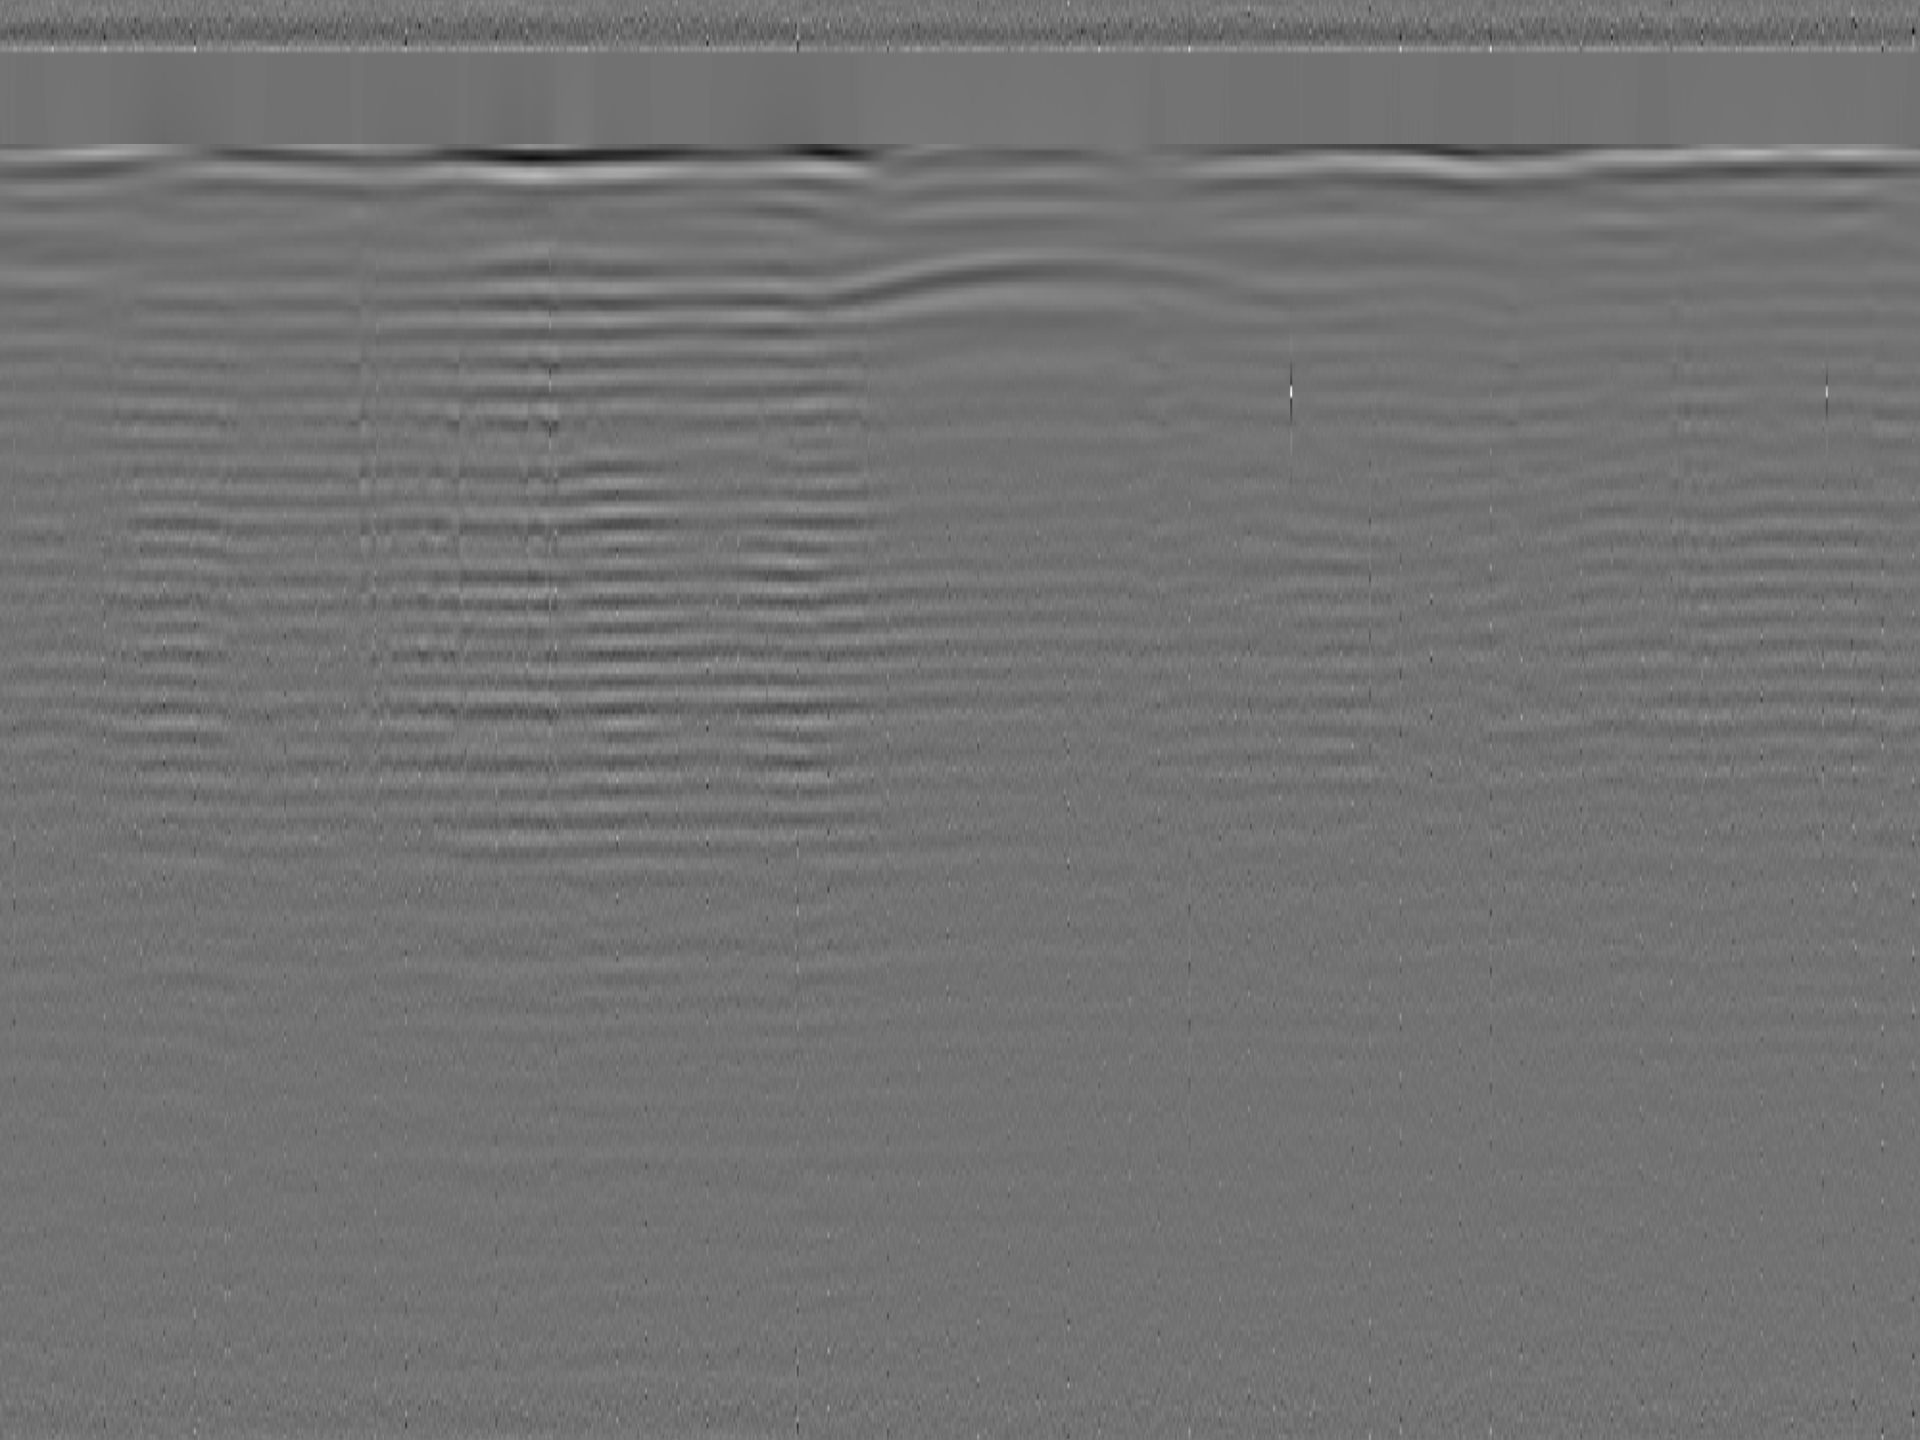Tunnel: (795, 254, 1321, 322)
